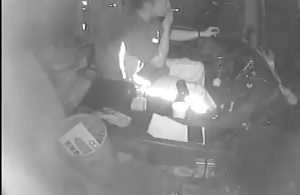cup: (170, 100, 190, 120)
